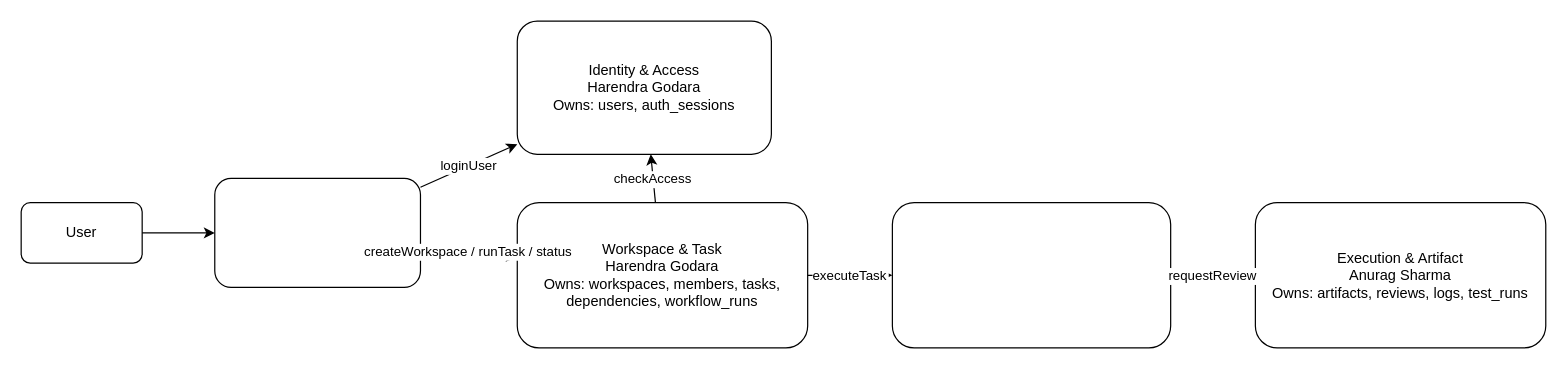
This 1567x369 diagram has some shape labels left out. Each missing label, with the centre of its shape:
AI Agent Mohit Tailor Owns: agents, agent_runs, messages, context: (x=1031, y=274)
Frontend / UI Harshita Rathore: (x=317, y=232)
